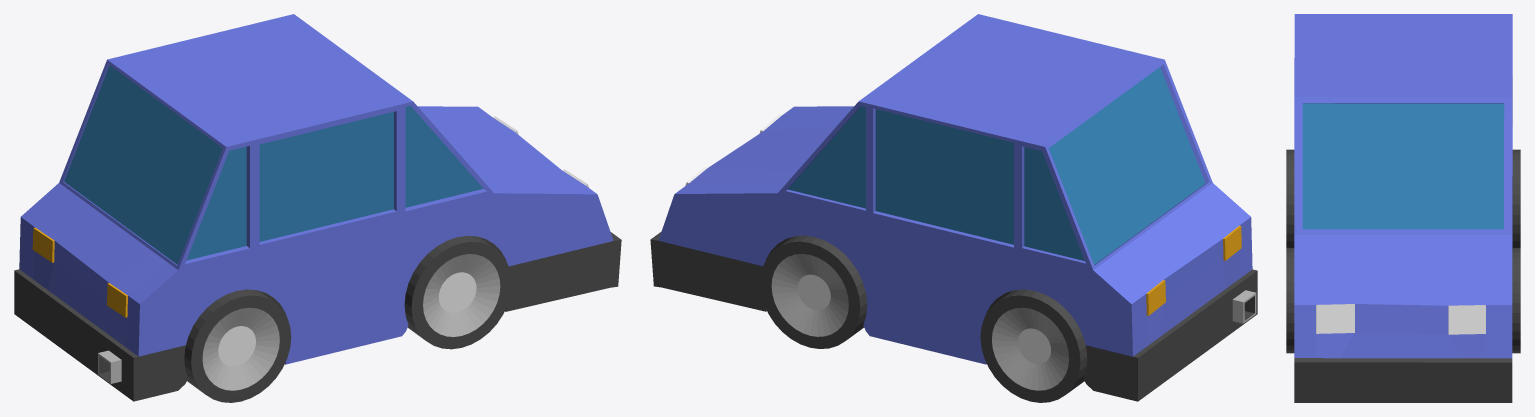
File: car_purple.fbx
3 views of the same model, side by side, from view 1: azimuth 30°, elevation 25°; view 2: azimuth 150°, elevation 25°; view 3: azimuth 270°, elevation 25° (orthographic). The views are drawn at different scales.
Parts seen in each view (by area): view 1: Cube.005, Cylinder.016, Cylinder.015; view 2: Cube.005, Cylinder.014, Cylinder.017; view 3: Cube.005, Cylinder.014, Cylinder.016, Cylinder.015, Cylinder.017.
Part boxes in pixels (x1,y1,x2,y2): Cube.005: (14,14,621,401); Cylinder.016: (404,235,511,349); Cylinder.015: (184,289,291,402); Cube.005: (650,14,1257,401); Cylinder.014: (760,235,867,348); Cylinder.017: (980,289,1087,402); Cube.005: (1294,14,1512,402); Cylinder.014: (1512,248,1520,353); Cylinder.016: (1286,248,1294,353); Cylinder.015: (1286,149,1294,247); Cylinder.017: (1512,149,1520,247).
Bounding box in the file's own units: 206 × 100 × 91.86.
